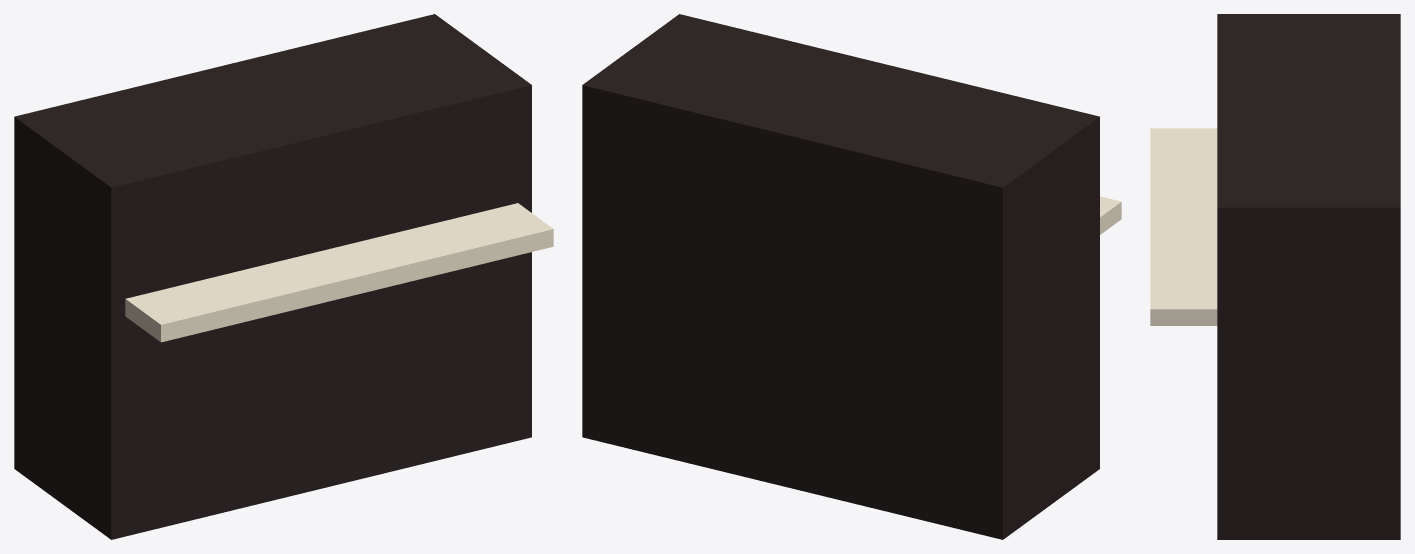
The model's file is elem_piano.glb.
3 renders of one model, left to right at view 1: azimuth 30°, elevation 25°; view 2: azimuth 150°, elevation 25°; view 3: azimuth 270°, elevation 25°, orthographic. The views are drawn at different scales.
Parts seen in each view (by area): view 1: Box1, Box2; view 2: Box1, Box2; view 3: Box1, Box2.
Boxes of the visible parts, x1=… form: Box1: x1=14, y1=14, x2=531, y2=539; Box2: x1=125, y1=203, x2=553, y2=342; Box1: x1=582, y1=14, x2=1099, y2=539; Box2: x1=1100, y1=196, x2=1121, y2=234; Box1: x1=1217, y1=14, x2=1400, y2=539; Box2: x1=1150, y1=128, x2=1217, y2=325.
Size of the model in its own units: 1.5 by 1.2 by 0.82.
